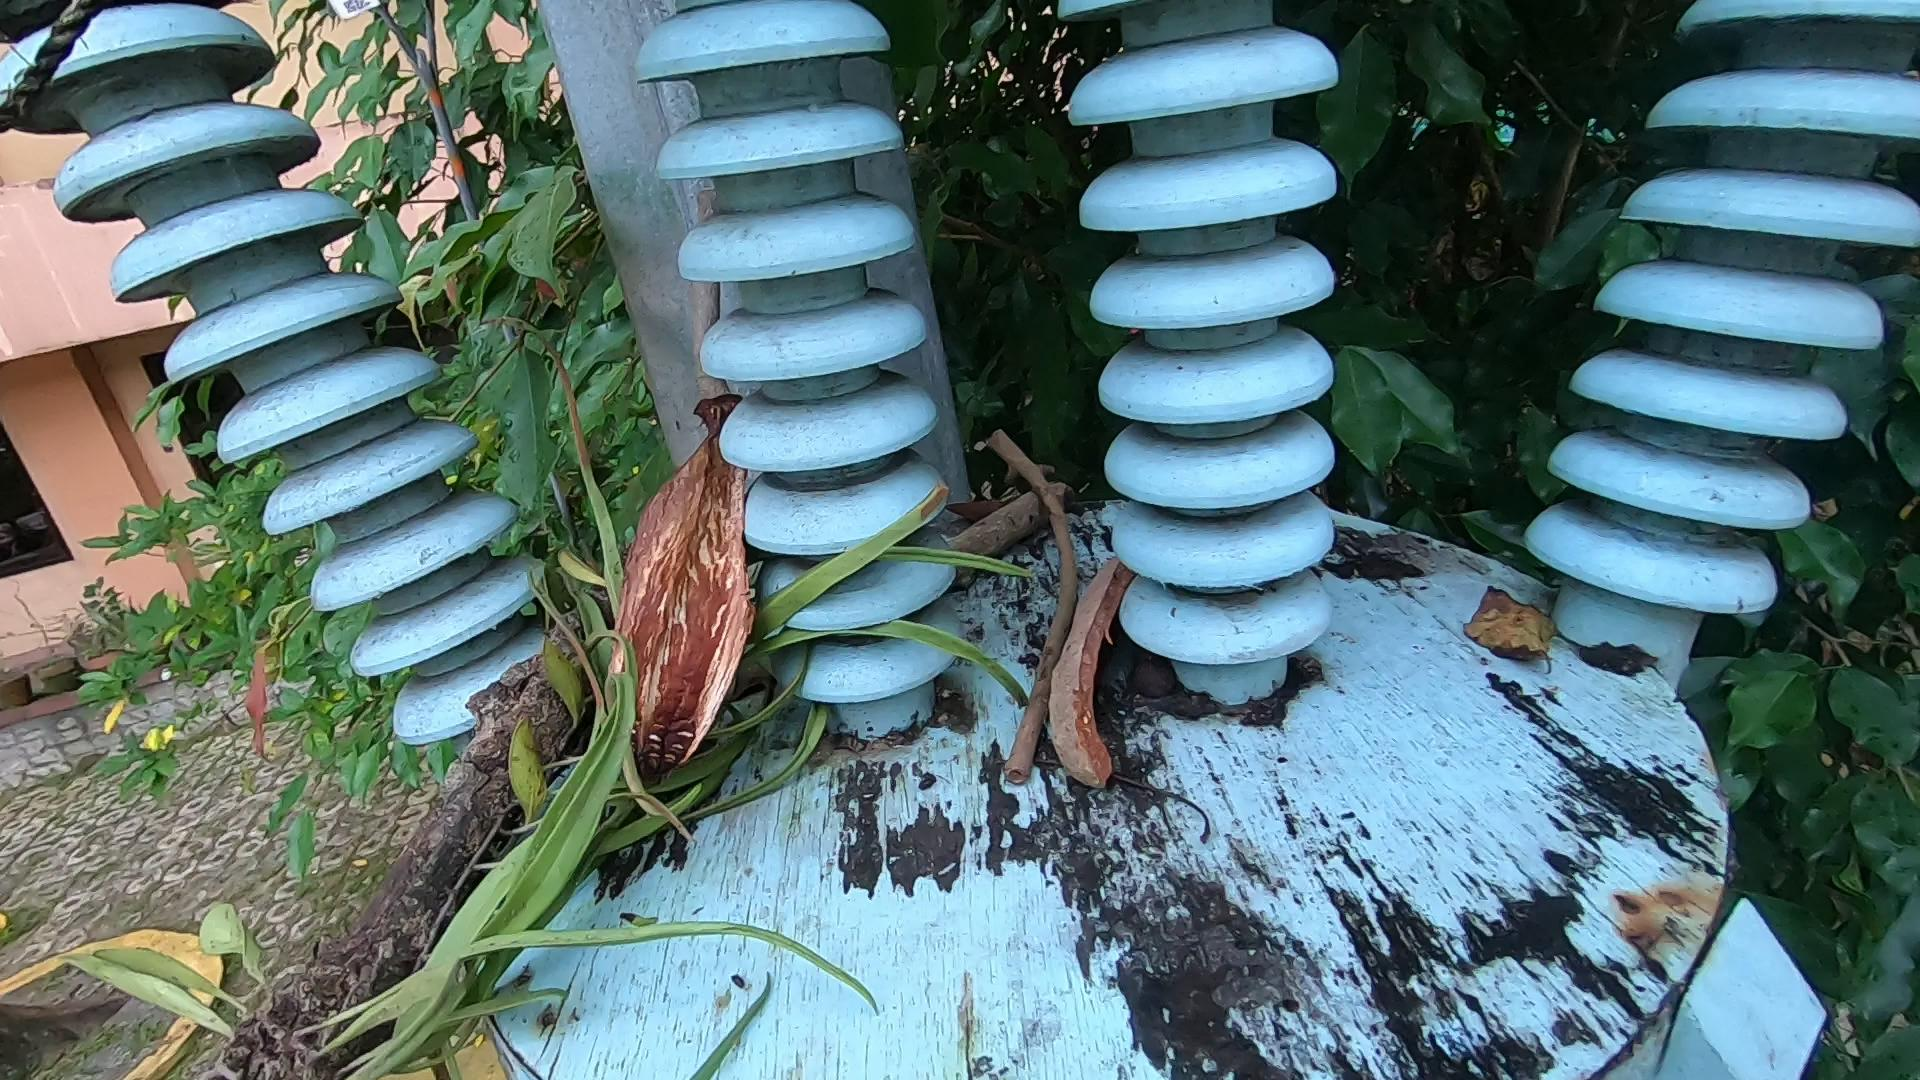branch with leaves: (55, 313, 1042, 1080)
leaf: (1468, 580, 1564, 673)
mahogany fruit: (591, 380, 756, 702), (1036, 495, 1137, 815)
tree branch: (986, 394, 1081, 800), (934, 465, 1069, 560)
